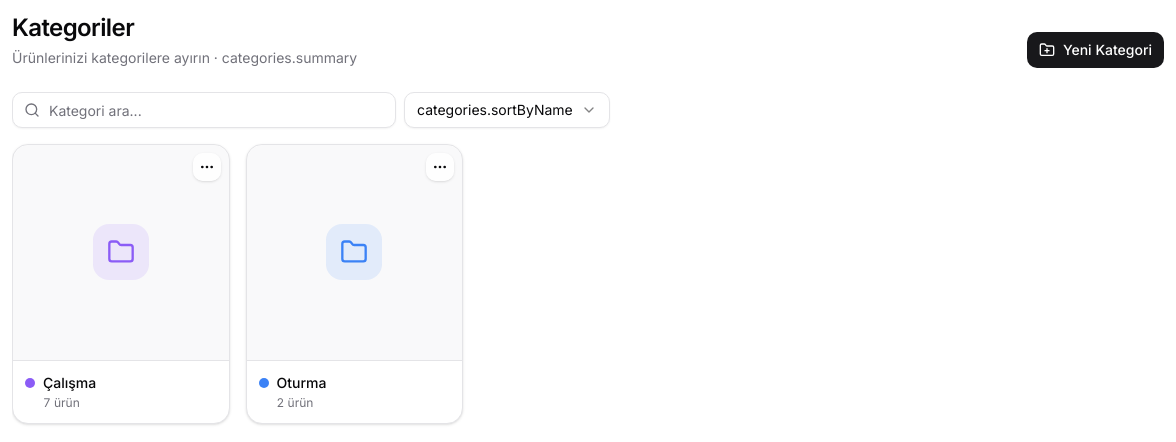
Kategori arama ve bağlantılar › arama Türkçe harflerde büyük/küçük harf duyarsızdır
This screenshot has width=1176, height=442.
Type "ÇALIŞ" into the search field with placeholder "Kategori ara..." at (204,110), box [12,92,396,128]
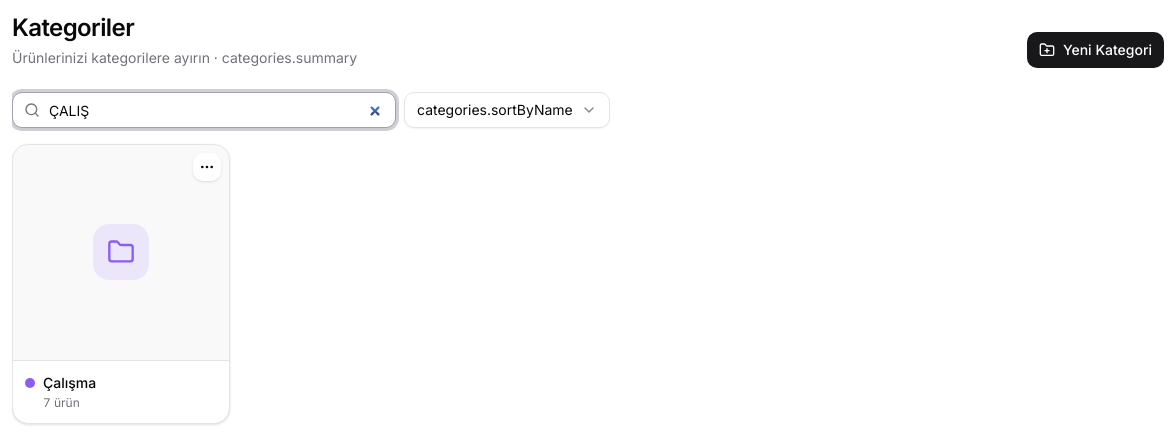
Check: the link "Çalışma" is shown, box [43,373,96,393]
Check: the link "Oturma" is gone
Replace the text in the search field with placeholder "Kategori ara..." with "xyz" at (204,110), box [12,92,396,128]
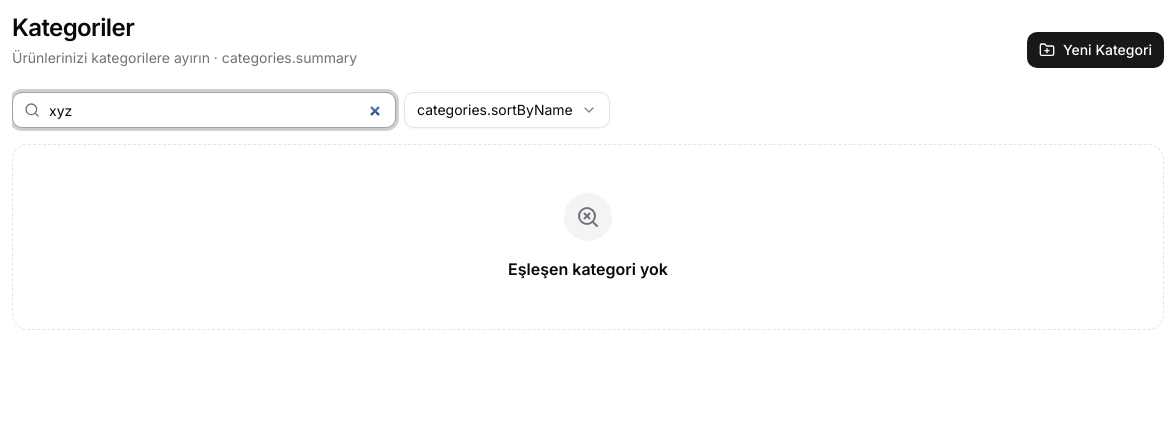
Check: the heading "Eşleşen kategori yok" is shown, box [508,257,668,281]
